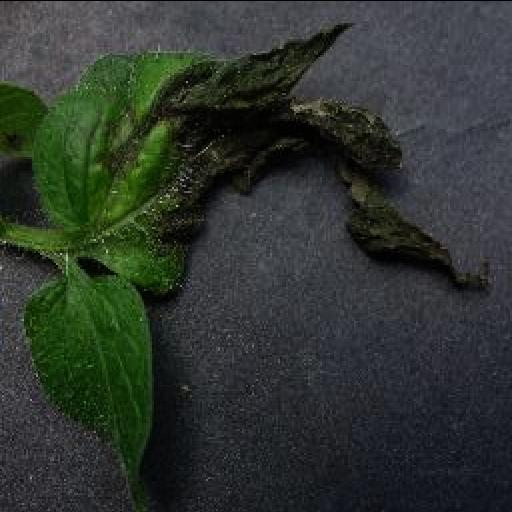disease_tomato: (30, 18, 496, 292)
